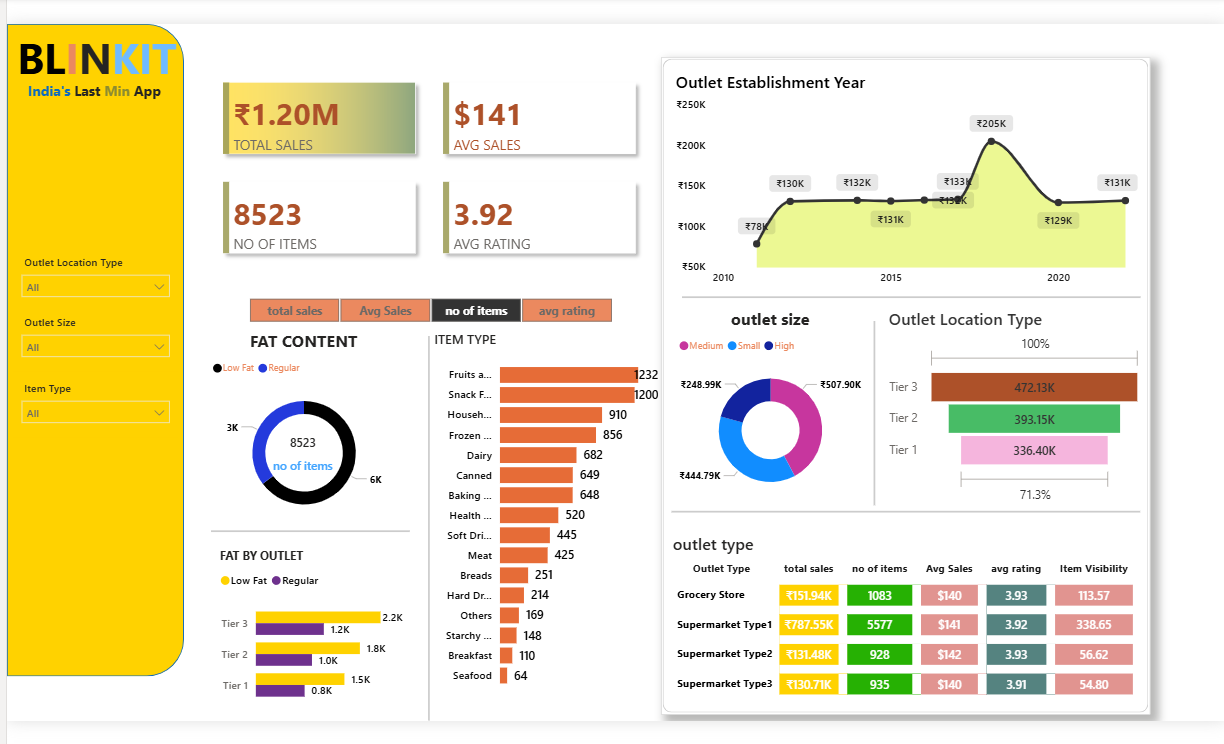

This screenshot's page, from the dashboard's own definition file:
{"tool":"powerbi","page":{"name":"Page 1","canvas":[1400,800],"ordinal":0},"visuals":[{"type":"shape","box":[0,0,203.2,749.2],"z":0},{"type":"textbox","box":[0,0,206.7,76.7],"z":1000},{"type":"textbox","box":[18.3,60,171.7,31.7],"z":2000},{"type":"cardVisual","fields":{"Data":["BlinkIT Grocery Data.total sales","BlinkIT Grocery Data.Avg Sales","BlinkIT Grocery Data.no of items","BlinkIT Grocery Data.avg rating"]},"box":[218.3,38.3,533.3,255],"z":3000},{"type":"shape","box":[751.7,38.3,561.7,755],"z":4000},{"type":"donutChart","title":"FAT CONTENT","fields":{"Y":["BlinkIT Grocery Data.no of items"],"Category":["BlinkIT Grocery Data.Item Fat Content"]},"box":[230,351.7,220,230],"z":5000},{"type":"slicer","fields":{"Values":["matrics.matrics"]},"box":[253.3,308.3,465,40],"z":6000},{"type":"card","fields":{"Values":["BlinkIT Grocery Data.no of items"]},"box":[261.7,446.7,155,91.7],"z":7000},{"type":"clusteredBarChart","title":"FAT BY OUTLET","fields":{"Y":["BlinkIT Grocery Data.no of items"],"Category":["BlinkIT Grocery Data.Outlet Location Type"],"Series":["BlinkIT Grocery Data.Item Fat Content"]},"box":[240,601.7,220,191.7],"z":8000},{"type":"shape","box":[235,563.3,228.3,38.3],"z":9000},{"type":"shape","box":[448.3,358.3,73.3,441.7],"z":10000},{"type":"barChart","title":"ITEM TYPE","fields":{"Y":["BlinkIT Grocery Data.no of items"],"Category":["BlinkIT Grocery Data.Item Type"]},"box":[485,351.7,266.7,420],"z":11000},{"type":"lineChart","title":" Outlet Establishment Year","fields":{"Y":["BlinkIT Grocery Data.total sales"],"Category":["BlinkIT Grocery Data.Outlet Establishment Year"]},"box":[763.3,53.3,540,255],"z":12000},{"type":"shape","box":[775,295,526.7,38.3],"z":13000},{"type":"donutChart","title":"outlet size","fields":{"Y":["BlinkIT Grocery Data.total sales"],"Category":["BlinkIT Grocery Data.Outlet Size"]},"box":[766.7,325,220,230],"z":14000},{"type":"funnel","title":"Outlet Location Type","fields":{"Y":["Sum(BlinkIT Grocery Data.Sales)"],"Category":["BlinkIT Grocery Data.Outlet Location Type"]},"box":[1008.3,325,300,230],"z":15000},{"type":"pivotTable","title":"outlet type","fields":{"Rows":["BlinkIT Grocery Data.Outlet Type"],"Values":["BlinkIT Grocery Data.total sales","BlinkIT Grocery Data.no of items","BlinkIT Grocery Data.Avg Sales","BlinkIT Grocery Data.avg rating","Sum(BlinkIT Grocery Data.Item Visibility)"]},"box":[760,583.3,545,191.7],"z":16000},{"type":"shape","box":[960,341.7,73.3,211.7],"z":17000},{"type":"shape","box":[763.3,541.7,538.3,38.3],"z":18000},{"type":"slicer","fields":{"Values":["BlinkIT Grocery Data.Outlet Location Type"]},"box":[6.7,260,190,70],"z":19000},{"type":"slicer","fields":{"Values":["BlinkIT Grocery Data.Outlet Size"]},"box":[6.7,328.3,190,70],"z":20000},{"type":"slicer","fields":{"Values":["BlinkIT Grocery Data.Item Type"]},"box":[6.7,405,190,70],"z":21000}]}

Visuals, with their boxes on the page's 1400x800 design canvas (x1, y1, x2, y2). These are canvas units, not pixel positions in the 1224x744 screenshot, which may show the page scaled, cropped or inside an application window:
shape: {"x1": 0, "y1": 0, "x2": 203, "y2": 749}
textbox: {"x1": 0, "y1": 0, "x2": 207, "y2": 77}
textbox: {"x1": 18, "y1": 60, "x2": 190, "y2": 92}
cardVisual - BlinkIT Grocery Data.total sales x BlinkIT Grocery Data.Avg Sales: {"x1": 218, "y1": 38, "x2": 752, "y2": 293}
shape: {"x1": 752, "y1": 38, "x2": 1313, "y2": 793}
"FAT CONTENT" donutChart: {"x1": 230, "y1": 352, "x2": 450, "y2": 582}
slicer - matrics.matrics: {"x1": 253, "y1": 308, "x2": 718, "y2": 348}
card - BlinkIT Grocery Data.no of items: {"x1": 262, "y1": 447, "x2": 417, "y2": 538}
"FAT BY OUTLET" clusteredBarChart: {"x1": 240, "y1": 602, "x2": 460, "y2": 793}
shape: {"x1": 235, "y1": 563, "x2": 463, "y2": 602}
shape: {"x1": 448, "y1": 358, "x2": 522, "y2": 800}
"ITEM TYPE" barChart: {"x1": 485, "y1": 352, "x2": 752, "y2": 772}
" Outlet Establishment Year" lineChart: {"x1": 763, "y1": 53, "x2": 1303, "y2": 308}
shape: {"x1": 775, "y1": 295, "x2": 1302, "y2": 333}
"outlet size" donutChart: {"x1": 767, "y1": 325, "x2": 987, "y2": 555}
"Outlet Location Type" funnel: {"x1": 1008, "y1": 325, "x2": 1308, "y2": 555}
"outlet type" pivotTable: {"x1": 760, "y1": 583, "x2": 1305, "y2": 775}
shape: {"x1": 960, "y1": 342, "x2": 1033, "y2": 553}
shape: {"x1": 763, "y1": 542, "x2": 1302, "y2": 580}
slicer - BlinkIT Grocery Data.Outlet Location Type: {"x1": 7, "y1": 260, "x2": 197, "y2": 330}
slicer - BlinkIT Grocery Data.Outlet Size: {"x1": 7, "y1": 328, "x2": 197, "y2": 398}
slicer - BlinkIT Grocery Data.Item Type: {"x1": 7, "y1": 405, "x2": 197, "y2": 475}
